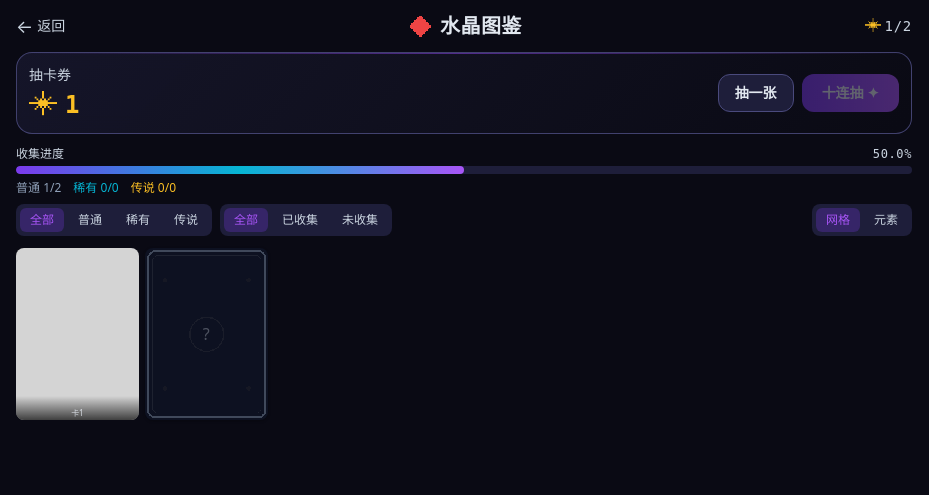
Test case: 水晶图鉴 › 抽卡失败显示错误，不静默
What coordinates should you click on to do the following:
click the button "抽一张"
I would click on:
 (756, 93)
Its box is [718,74,794,112].
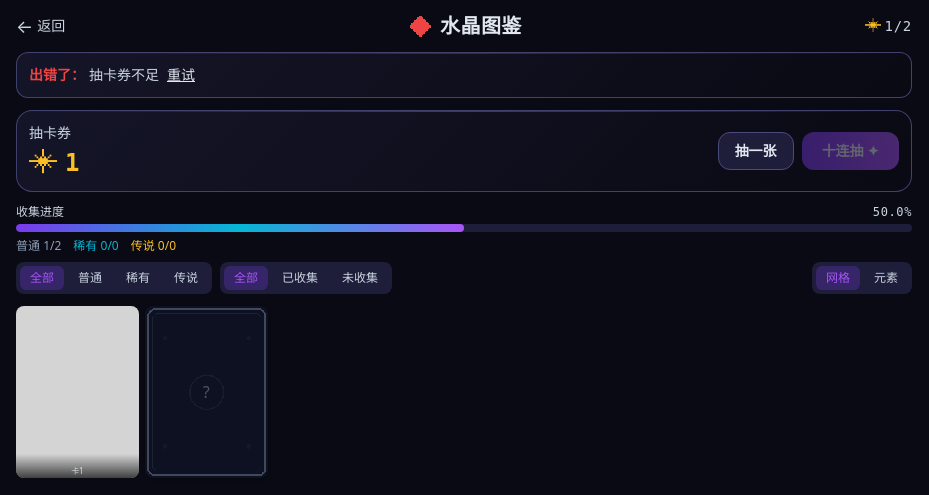
Result: the text "抽卡券不足" is shown at [89,65,159,84]
